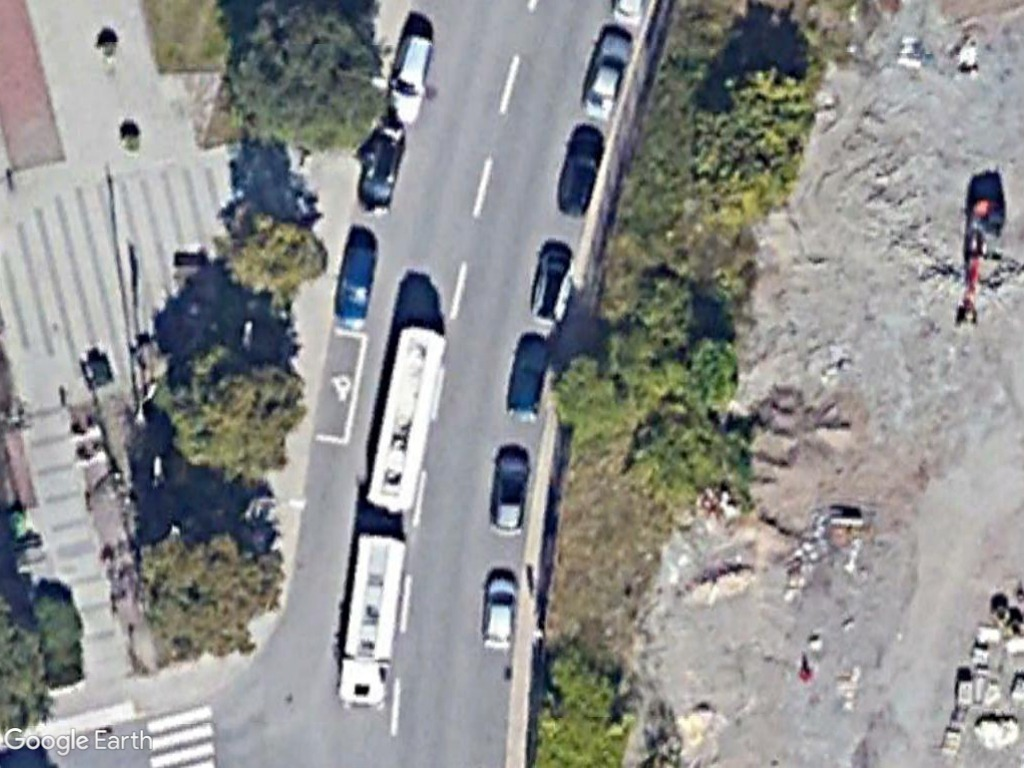car: (575, 25, 638, 124), (381, 22, 438, 131), (552, 121, 608, 220), (501, 326, 556, 425), (352, 120, 407, 219), (329, 232, 378, 332), (487, 442, 534, 540), (527, 239, 575, 325), (477, 568, 522, 659)
truck: (331, 517, 408, 713)
